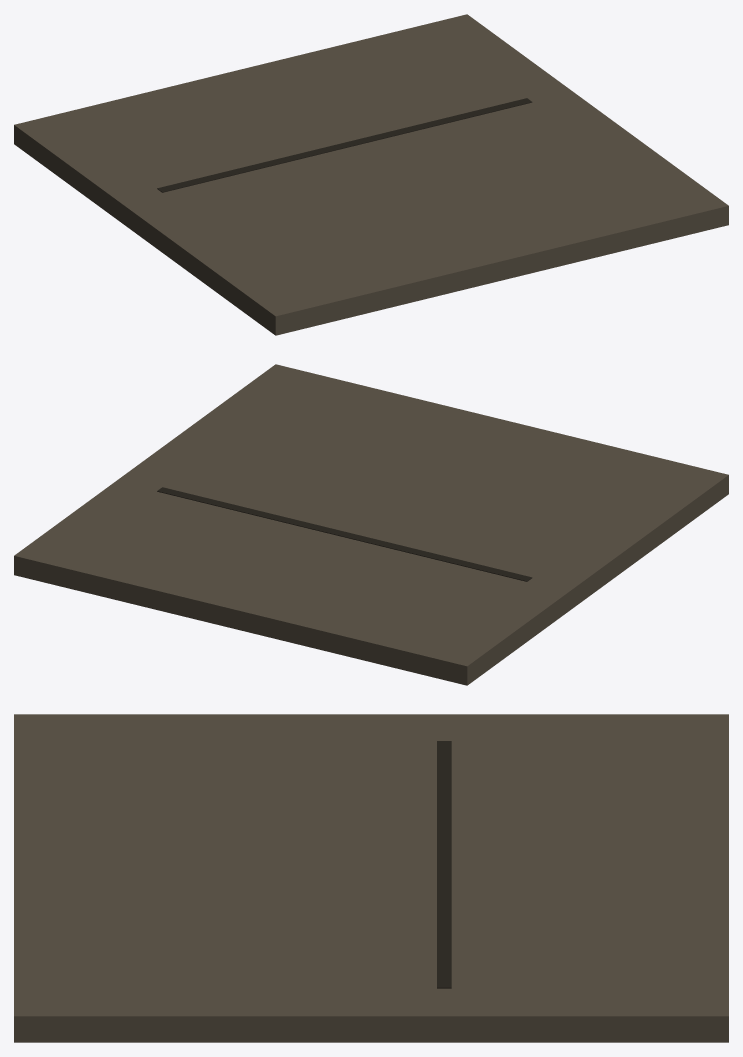
File: s3_ondol_tile.glb
3 views of the same model, one above another, from view 1: azimuth 30°, elevation 25°; view 2: azimuth 150°, elevation 25°; view 3: azimuth 270°, elevation 25° (orthographic). The views are drawn at different scales.
Visible parts, largest first — view 1: s3_ondol_tile; view 2: s3_ondol_tile; view 3: s3_ondol_tile.
Boxes of the visible parts, x1,y1,x2,y2 form: s3_ondol_tile: [14, 14, 728, 335]; s3_ondol_tile: [14, 364, 728, 685]; s3_ondol_tile: [14, 714, 728, 1042].
Size of the model in its own units: 1.96 by 0.085 by 1.96.
